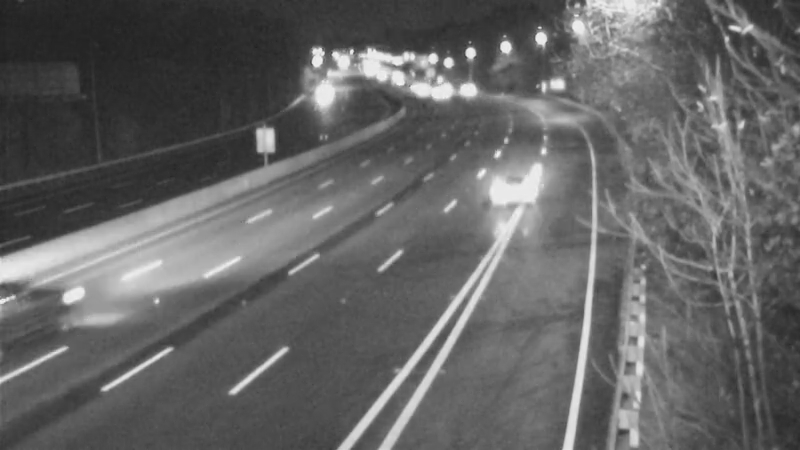vehicle: (1, 260, 95, 370), (483, 152, 563, 232), (434, 61, 484, 111)
